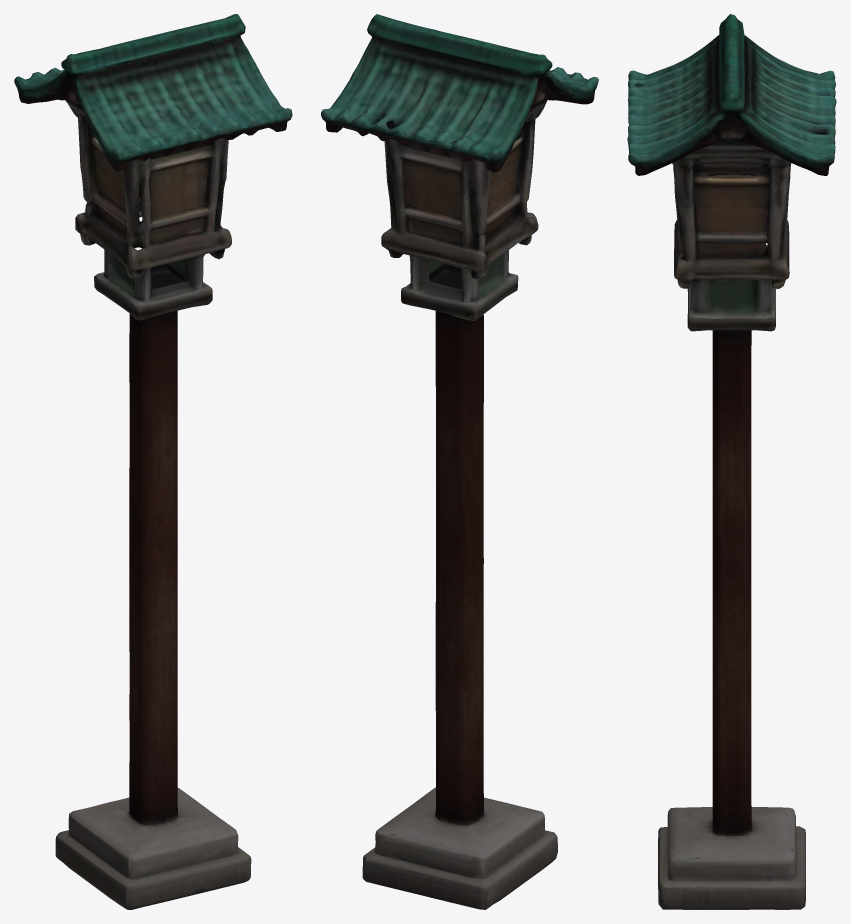
File: PROP-002.glb
The picture shows the model from 3 angles, left to right: view 1: azimuth 30°, elevation 25°; view 2: azimuth 150°, elevation 25°; view 3: azimuth 270°, elevation 25°; orthographic projection.
Parts seen in each view (by area): view 1: world; view 2: world; view 3: world.
Boxes of the visible parts, x1,y1,x2,y2 form: world: (14,14,292,909); world: (321,14,598,909); world: (627,14,836,909).
Size of the model in its own units: 0.4879 by 2.2 by 0.5048.
1 material, 1 textured.
